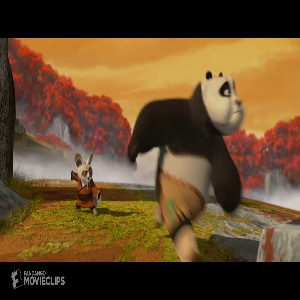po: (126, 68, 244, 260)
shifu: (67, 152, 105, 215)
